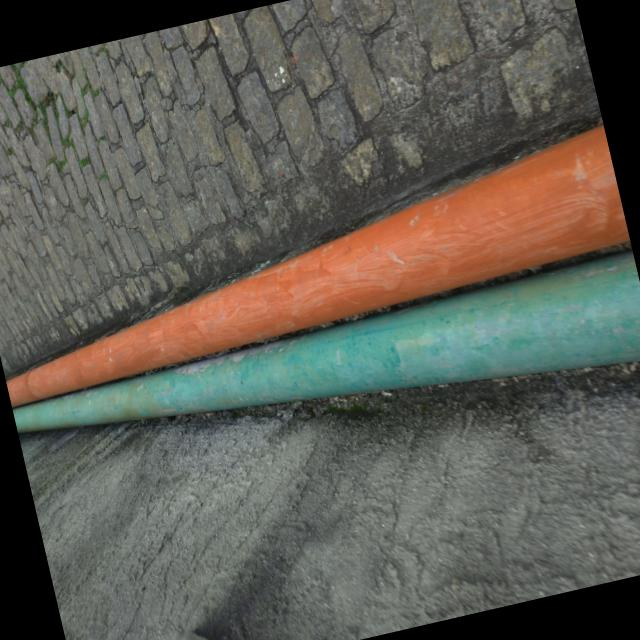gas: (6, 125, 630, 405), (12, 250, 640, 430)
